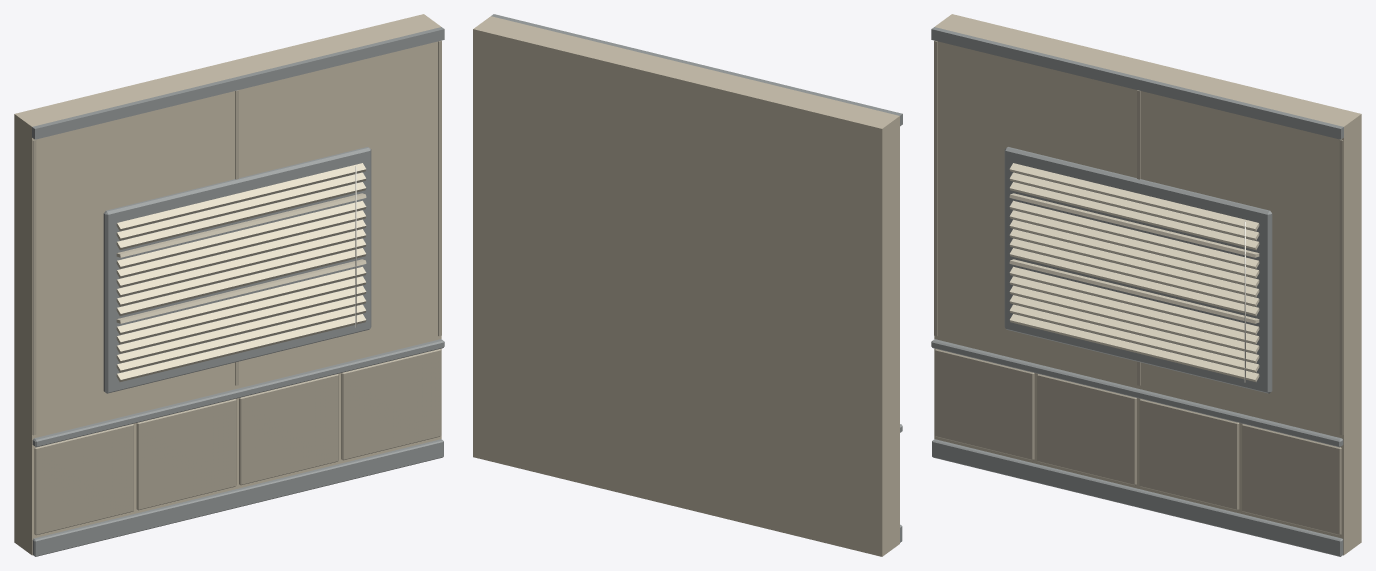
File: wall_an_blinds.glb
The picture shows the model from 3 angles, left to right: view 1: azimuth 30°, elevation 25°; view 2: azimuth 150°, elevation 25°; view 3: azimuth 330°, elevation 25°; orthographic projection.
Visible parts, largest first — view 1: wall_an_blinds; view 2: wall_an_blinds; view 3: wall_an_blinds.
Boxes of the visible parts, <box> form: wall_an_blinds: <box>14,14,444,556</box>; wall_an_blinds: <box>473,14,902,556</box>; wall_an_blinds: <box>931,14,1361,556</box>.
Bounding box in the file's own units: 4 × 4 × 0.416.
